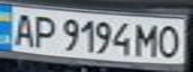1: (78, 17, 96, 54)
4: (112, 19, 136, 56)
9: (57, 16, 81, 52), (93, 19, 115, 55)
A: (6, 10, 39, 47)
M: (133, 20, 163, 58)
O: (154, 22, 184, 58)
P: (30, 12, 57, 50)
